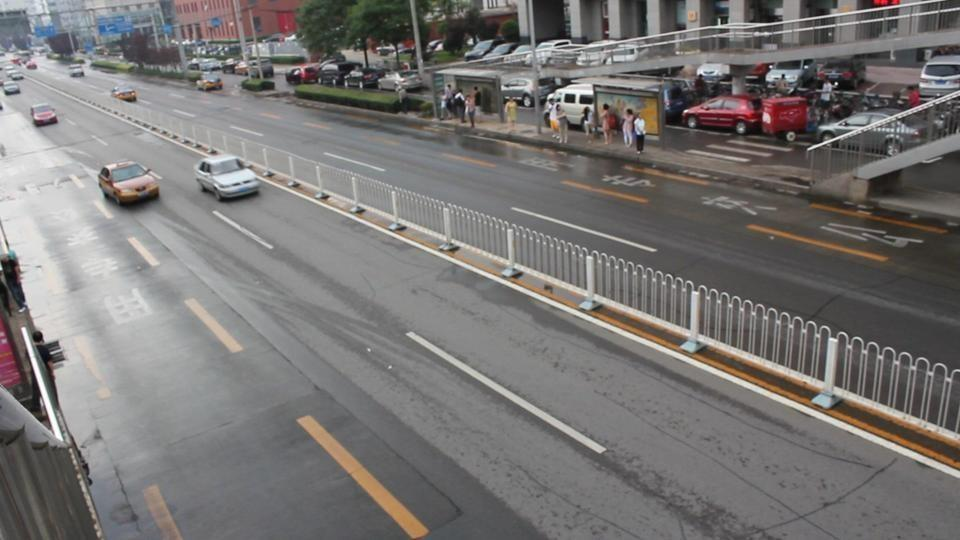car: (814, 112, 921, 154), (682, 95, 765, 135), (194, 153, 262, 201), (98, 159, 161, 205), (765, 59, 836, 90), (502, 77, 566, 107), (918, 53, 960, 98), (805, 60, 868, 89), (463, 39, 520, 63), (377, 72, 430, 93), (30, 102, 60, 127), (344, 70, 382, 89), (195, 67, 224, 91), (287, 64, 321, 84), (110, 86, 139, 102), (1, 77, 22, 95)
